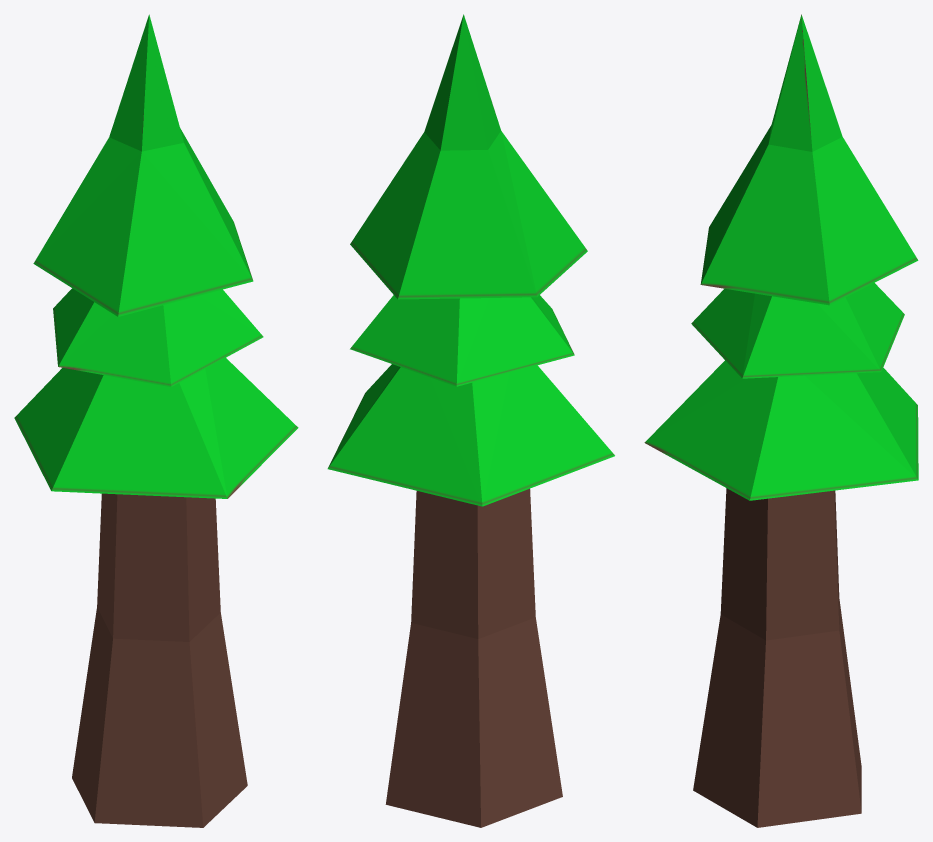
The model's file is wood2.obj.
3 views of the same model, side by side, from view 1: azimuth 30°, elevation 25°; view 2: azimuth 150°, elevation 25°; view 3: azimuth 270°, elevation 25° (orthographic).
Parts seen in each view (by area): view 1: 円柱; view 2: 円柱; view 3: 円柱.
Boxes of the visible parts, x1,y1,x2,y2 form: 円柱: (14, 14, 298, 827); 円柱: (327, 14, 614, 827); 円柱: (644, 14, 918, 827).
Bounding box in the file's own units: 3.08 × 9.19 × 2.94.
1 material, 1 textured.
